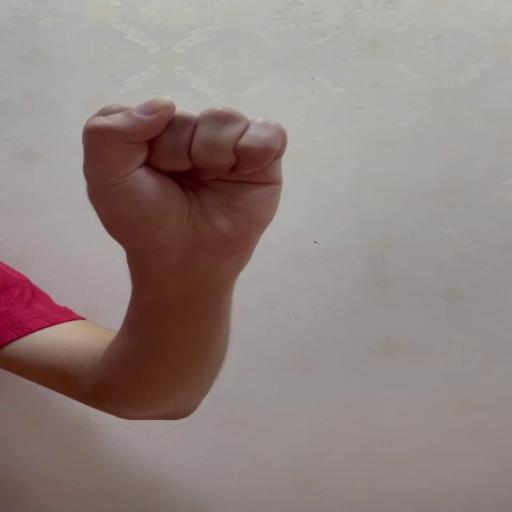fist: (78, 91, 289, 254)
